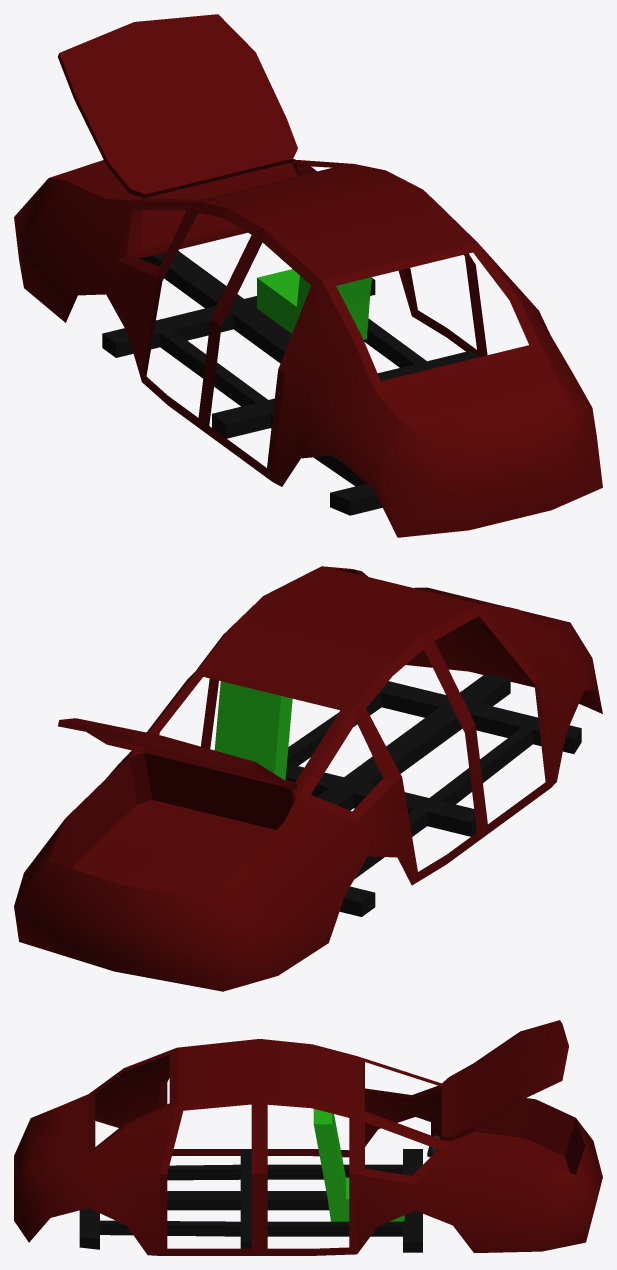
The model's file is Car With Bonnett.FBX.
The picture shows the model from 3 angles, top to bottom: view 1: azimuth 30°, elevation 25°; view 2: azimuth 150°, elevation 25°; view 3: azimuth 270°, elevation 25°; orthographic projection. The views are drawn at different scales.
Parts seen in each view (by area): view 1: BodyOpen, Bonnet, Chassis, Seat, Engine Slot; view 2: BodyOpen, Engine Slot, Chassis, Seat, Bonnet; view 3: BodyOpen, Chassis, Bonnet, Engine Slot, Seat.
Part boxes in pixels (<box>): BodyOpen: <box>14,160,602,537</box>; Bonnet: <box>58,14,297,198</box>; Chassis: <box>102,251,479,515</box>; Seat: <box>257,269,371,339</box>; Engine Slot: <box>49,159,297,257</box>; BodyOpen: <box>14,566,602,991</box>; Engine Slot: <box>48,752,295,899</box>; Chassis: <box>285,673,581,916</box>; Seat: <box>214,681,292,780</box>; Bonnet: <box>58,718,297,790</box>; BodyOpen: <box>14,1039,602,1255</box>; Chassis: <box>79,1149,422,1252</box>; Bonnet: <box>441,1020,568,1140</box>; Engine Slot: <box>444,1098,585,1174</box>; Seat: <box>313,1109,404,1221</box>.
Size of the model in its own units: 1470 by 1124 by 3666.
